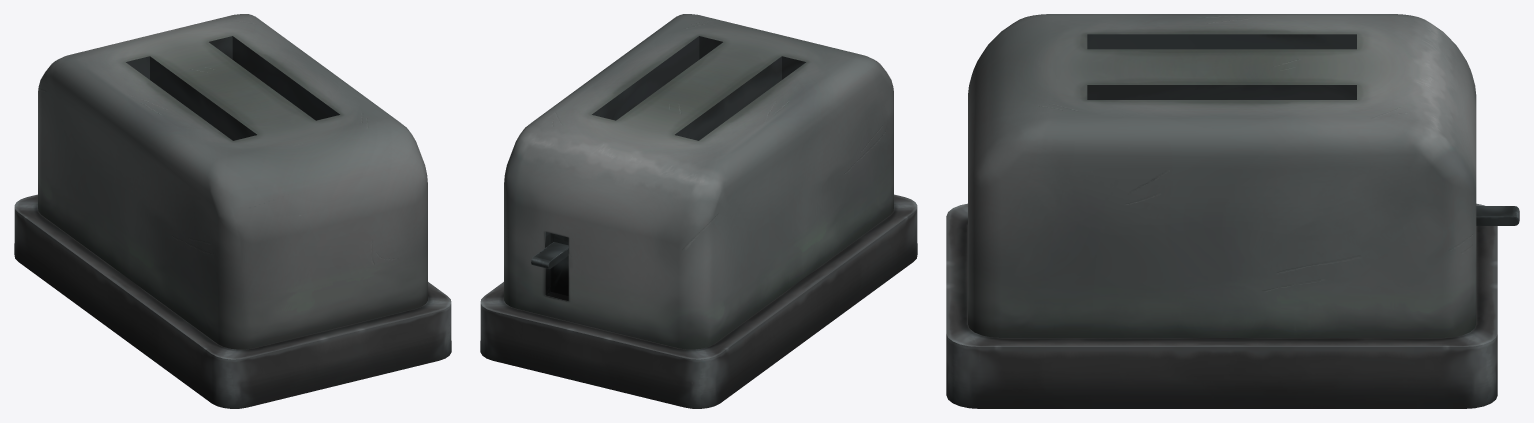
Rendered from Toaster.fbx.
3 views of the same model, side by side, from view 1: azimuth 30°, elevation 25°; view 2: azimuth 150°, elevation 25°; view 3: azimuth 270°, elevation 25° (orthographic). The views are drawn at different scales.
Parts seen in each view (by area): view 1: Cube; view 2: Cube; view 3: Cube.
Part boxes in pixels (x1,y1,x2,y2): Cube: [14, 14, 451, 408]; Cube: [480, 14, 917, 408]; Cube: [946, 14, 1519, 408].
Size of the model in its own units: 106 by 92.16 by 178.
1 material, 1 textured.
